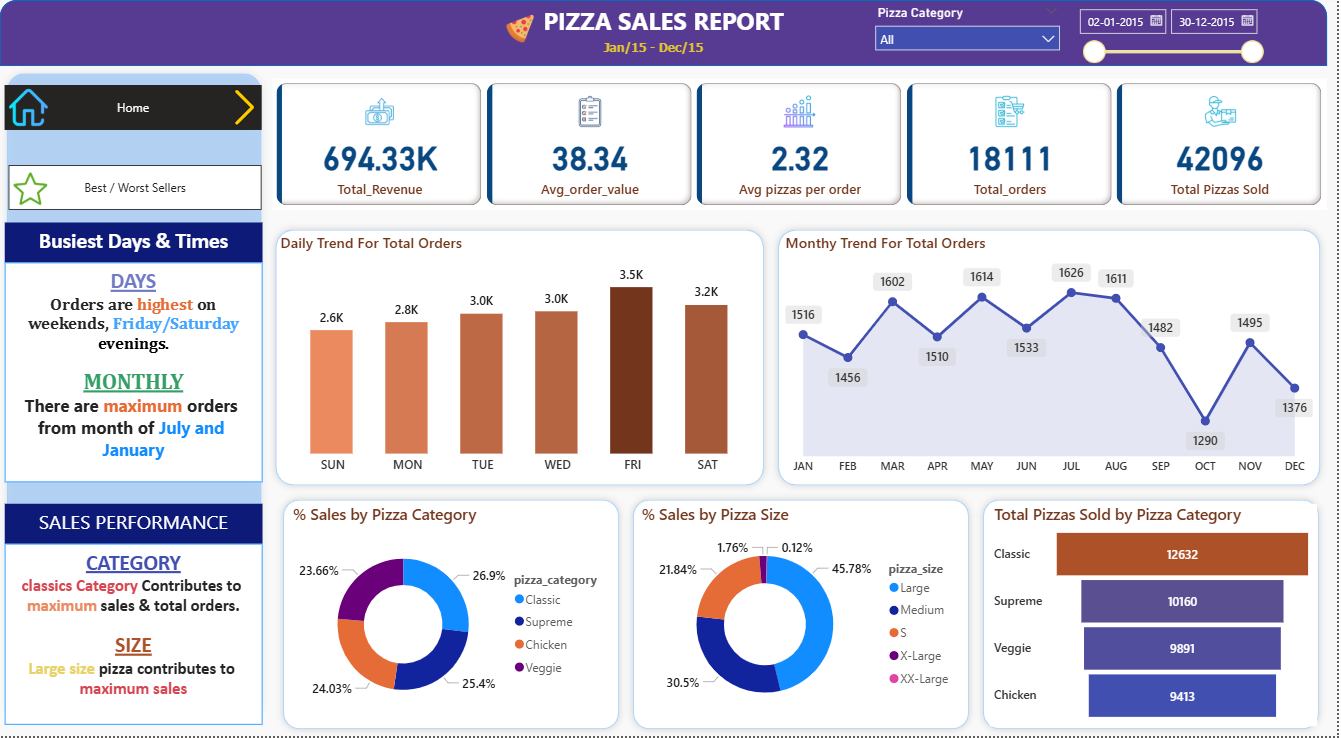

The dashboard page shown, as its layout file describes it:
{"tool":"powerbi","page":{"name":"Home","canvas":[1500,820],"ordinal":0},"visuals":[{"type":"cardVisual","fields":{"Data":["pizza_sales.Total_Revenue","pizza_sales.Avg_order_value","pizza_sales.Avg pizzas per order","pizza_sales.Total_orders","pizza_sales.Total Pizzas Sold"]},"box":[313.4,87.7,1175.4,146.2],"z":0},{"type":"shape","box":[9.7,0,1479,73.8],"z":1000},{"type":"textbox","box":[604.4,0,289.7,64.1],"z":2000},{"type":"textbox","box":[639.2,39,197.8,30.6],"z":3000},{"type":"image","box":[559.9,11.1,58.5,41.8],"z":4000},{"type":"shape","box":[309.2,247.9,559.9,300.8],"z":5000},{"type":"columnChart","title":" Daily Trend For Total Orders","fields":{"Category":["pizza_sales.Order day"],"Y":["pizza_sales.Total_orders"]},"box":[317.5,259,544.5,278.5],"z":6000},{"type":"shape","box":[869,247.9,619.7,300.8],"z":7000},{"type":"areaChart","title":"Monthy Trend For Total Orders","fields":{"Category":["pizza_sales.Order Month"],"Y":["pizza_sales.Total_orders"]},"box":[880.2,259,597.5,278.5],"z":8000},{"type":"shape","box":[317.5,548.7,390,271.6],"z":9000},{"type":"shape","box":[9.7,73.8,299.4,735.3],"z":10000},{"type":"shape","box":[1097.4,548.7,390,271.6],"z":11000},{"type":"shape","box":[707.5,548.7,390,271.6],"z":12000},{"type":"donutChart","title":" % Sales by Pizza Category","fields":{"Category":["pizza_sales.pizza_category"],"Y":["pizza_sales.Total_Revenue"]},"box":[331.5,561.2,364.9,246.5],"z":13000},{"type":"donutChart","title":" % Sales by Pizza Size","fields":{"Y":["pizza_sales.Total_Revenue"],"Category":["pizza_sales.pizza_size"]},"box":[720,561.2,364.9,246.5],"z":14000},{"type":"funnel","title":"Total Pizzas Sold by Pizza Category","fields":{"Category":["pizza_sales.pizza_category"],"Y":["pizza_sales.Total Pizzas Sold"]},"box":[1112.7,561.2,364.9,247.9],"z":15000},{"type":"textbox","box":[15.3,247.9,286.9,44.6],"z":16000},{"type":"textbox","box":[15.3,292.5,286.9,245.1],"z":17000},{"type":"textbox","box":[15.3,561.2,286.9,44.6],"z":18000},{"type":"textbox","box":[15.3,605.8,286.9,201.9],"z":19000},{"type":"slicer","title":"Pizza Category","fields":{"Values":["pizza_sales.pizza_category"]},"box":[974.9,0,225.6,71],"z":20000},{"type":"slicer","title":"Pizza Category","fields":{"Values":["pizza_sales.order_date"]},"box":[1200.5,0,225.6,73.8],"z":21000},{"type":"pageNavigator","box":[15.3,94.7,286.9,50.1],"z":22000},{"type":"pageNavigator","box":[19.5,183.8,282.7,50.1],"z":23000},{"type":"image","box":[256.3,94.7,52.9,50.1],"z":24000},{"type":"image","box":[15.3,87.7,52.9,64.1],"z":25000},{"type":"image","box":[19.5,186.6,48.7,47.4],"z":26000}]}

Visuals, with their boxes in screenshot pixels (x1, y1, x2, y2), scaled from the page's 1500x820 canvas onto the 1341x738 screenshot:
cardVisual - pizza_sales.Total_Revenue x pizza_sales.Avg_order_value: bbox=[280, 79, 1331, 211]
shape: bbox=[9, 0, 1331, 66]
textbox: bbox=[540, 0, 799, 58]
textbox: bbox=[571, 35, 748, 63]
image: bbox=[501, 10, 553, 48]
shape: bbox=[276, 223, 777, 494]
" Daily Trend For Total Orders" columnChart: bbox=[284, 233, 771, 484]
shape: bbox=[777, 223, 1331, 494]
"Monthy Trend For Total Orders" areaChart: bbox=[787, 233, 1321, 484]
shape: bbox=[284, 494, 633, 737]
shape: bbox=[9, 66, 276, 728]
shape: bbox=[981, 494, 1330, 737]
shape: bbox=[633, 494, 981, 737]
" % Sales by Pizza Category" donutChart: bbox=[296, 505, 623, 727]
" % Sales by Pizza Size" donutChart: bbox=[644, 505, 970, 727]
"Total Pizzas Sold by Pizza Category" funnel: bbox=[995, 505, 1321, 728]
textbox: bbox=[14, 223, 270, 263]
textbox: bbox=[14, 263, 270, 484]
textbox: bbox=[14, 505, 270, 545]
textbox: bbox=[14, 545, 270, 727]
"Pizza Category" slicer: bbox=[872, 0, 1073, 64]
"Pizza Category" slicer: bbox=[1073, 0, 1275, 66]
pageNavigator: bbox=[14, 85, 270, 130]
pageNavigator: bbox=[17, 165, 270, 211]
image: bbox=[229, 85, 276, 130]
image: bbox=[14, 79, 61, 137]
image: bbox=[17, 168, 61, 211]
